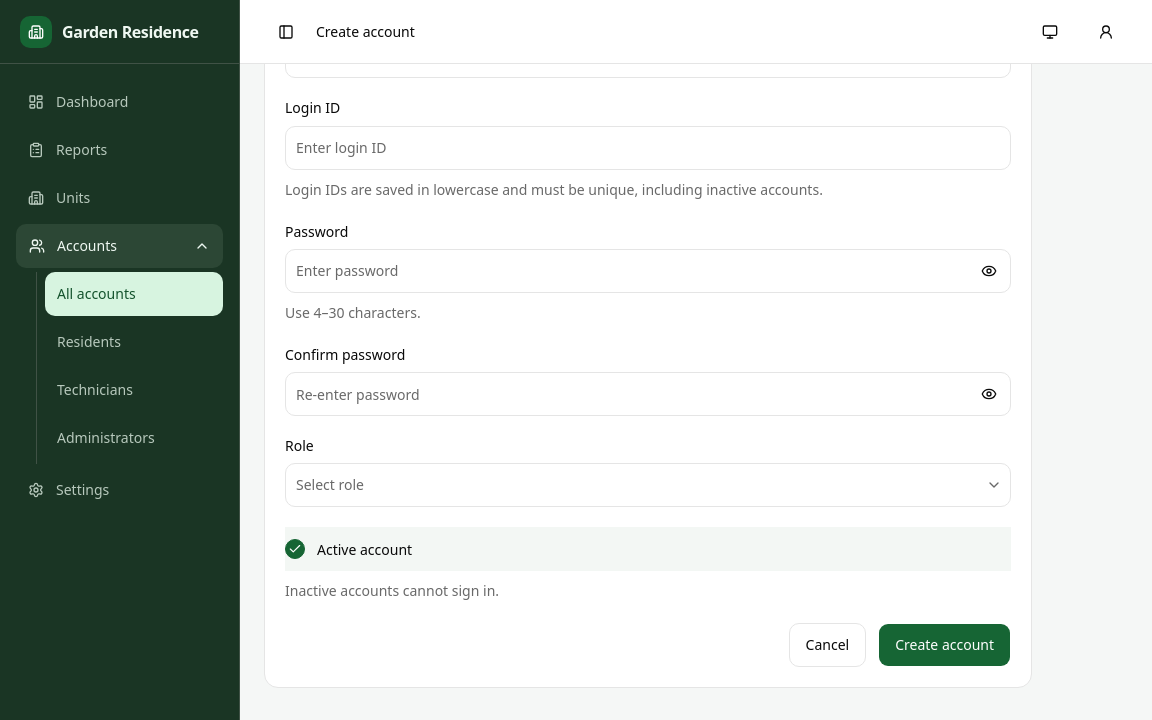
Test: requires identity fields, confirmation and a role, focusing the first invalid input
(page scrolled)
Expected: the dropdown labelled "role" shows "Select role", left=285, top=463, right=1011, bottom=507
Click the button "Create account" at (945, 645), box left=878, top=623, right=1011, bottom=667
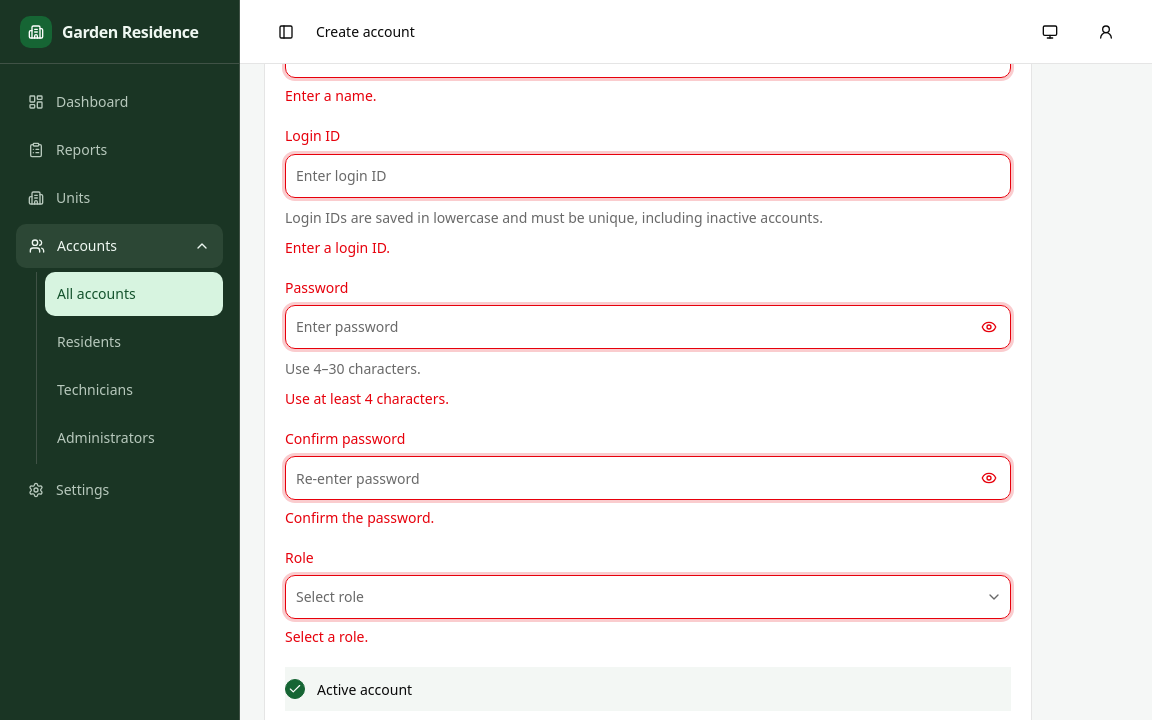
Expected: the text "Enter a name." is shown, left=285, top=86, right=376, bottom=105
Expected: the text "Enter a login ID." is shown, left=285, top=238, right=390, bottom=256
Expected: the text "Use at least 4 characters." is shown, left=285, top=389, right=449, bottom=408
